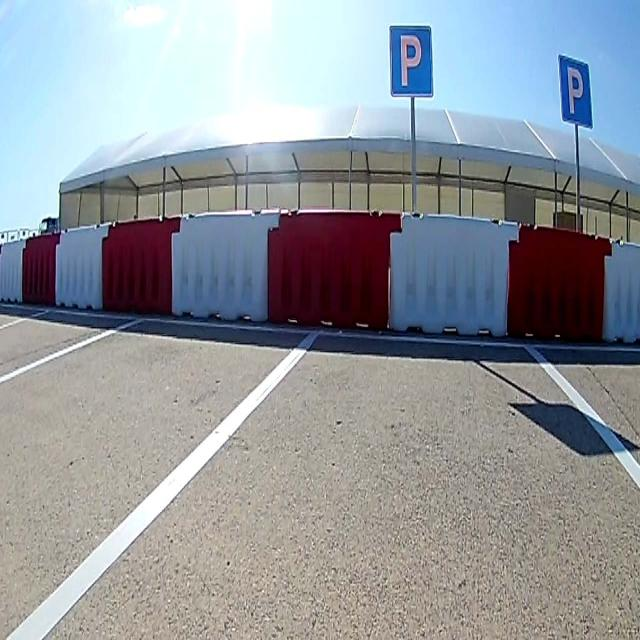park: (390, 26, 432, 98), (556, 55, 594, 129)
